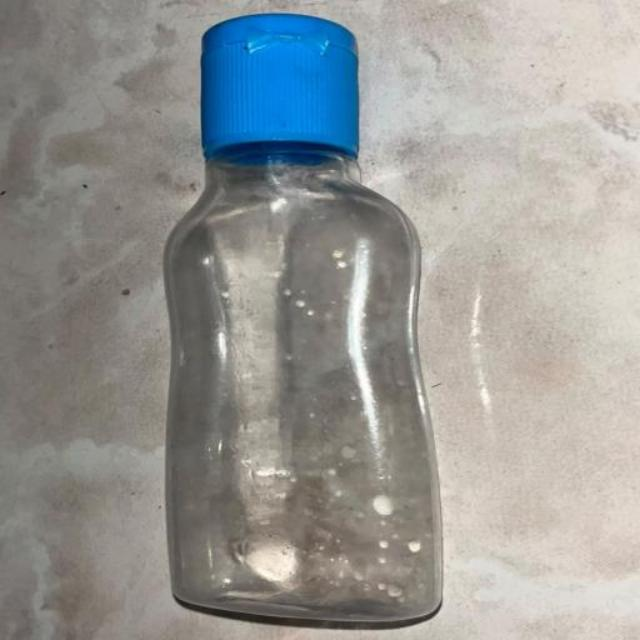PET: (80, 15, 550, 630)
